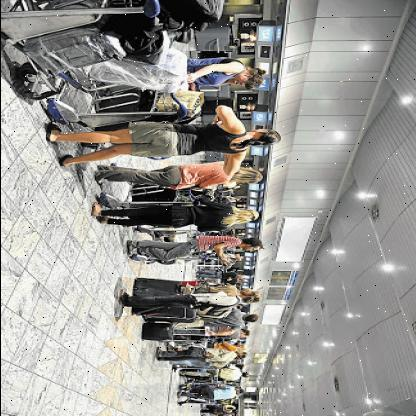airport-trolley: (0, 0, 167, 100), (24, 91, 194, 128), (95, 182, 196, 216)
